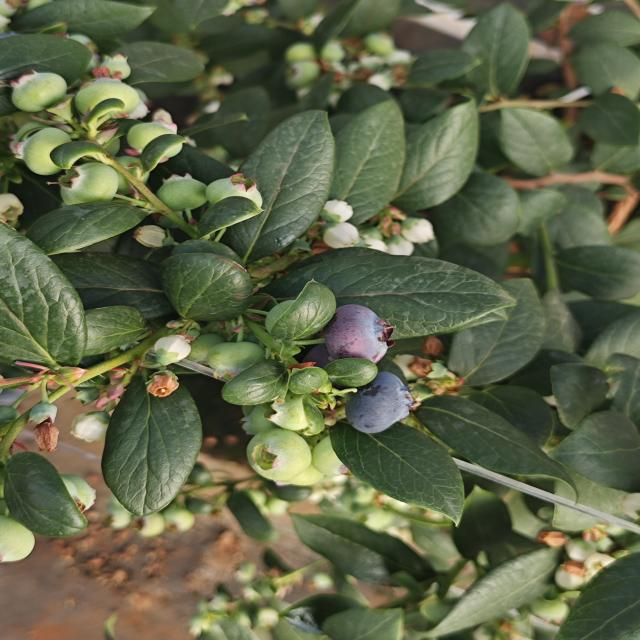ripe: (304, 300, 403, 367), (346, 358, 416, 436)
